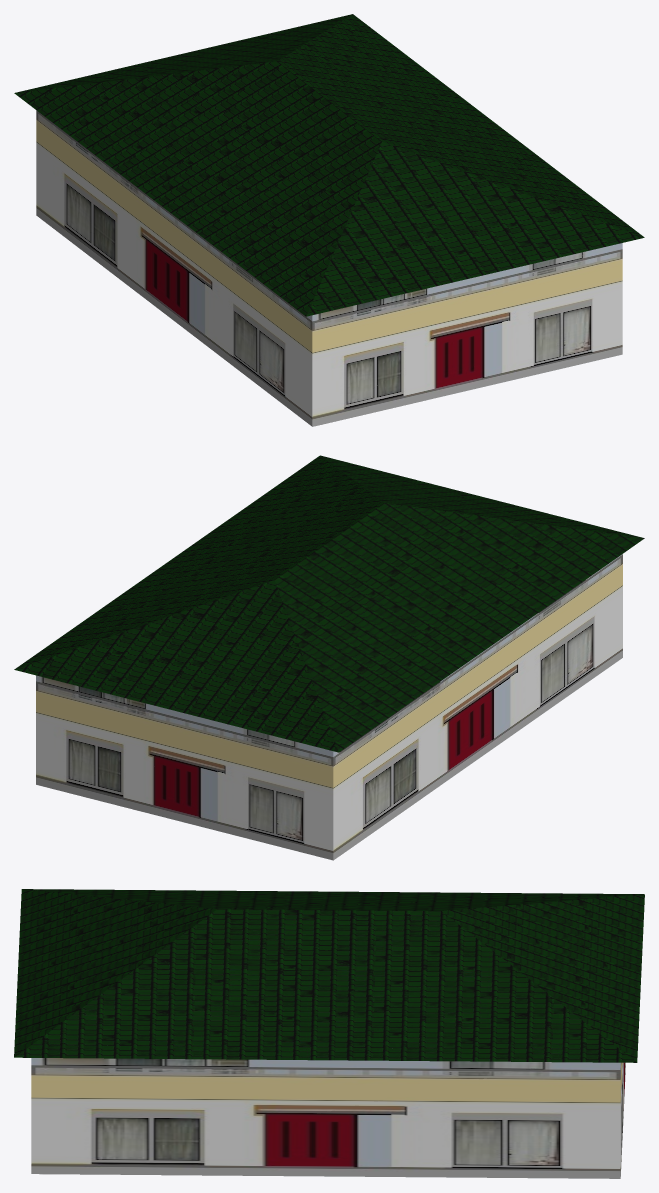
3 renders of one model, top to bottom at view 1: azimuth 30°, elevation 25°; view 2: azimuth 150°, elevation 25°; view 3: azimuth 270°, elevation 25°, orthographic. The views are drawn at different scales.
Visible parts, largest first — view 1: CityEngineMaterial_13_m, CityEngineMaterial_15_m; view 2: CityEngineMaterial_13_m, CityEngineMaterial_15_m; view 3: CityEngineMaterial_13_m, CityEngineMaterial_15_m.
Boxes of the visible parts, bbox=[...] form: CityEngineMaterial_13_m: bbox=[14, 14, 644, 316]; CityEngineMaterial_15_m: bbox=[36, 110, 622, 426]; CityEngineMaterial_13_m: bbox=[14, 455, 644, 752]; CityEngineMaterial_15_m: bbox=[36, 554, 622, 860]; CityEngineMaterial_13_m: bbox=[14, 889, 644, 1062]; CityEngineMaterial_15_m: bbox=[31, 1058, 625, 1178].
Bounding box in the file's own units: 22.91 × 11.63 × 35.16.
